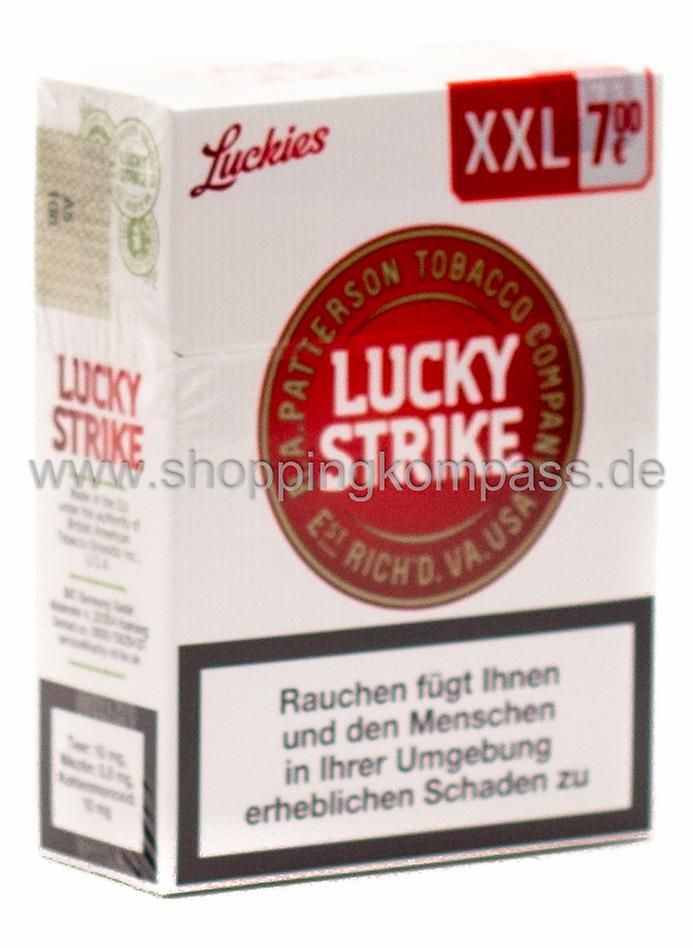lucky_strike_red: (171, 99, 650, 836)
